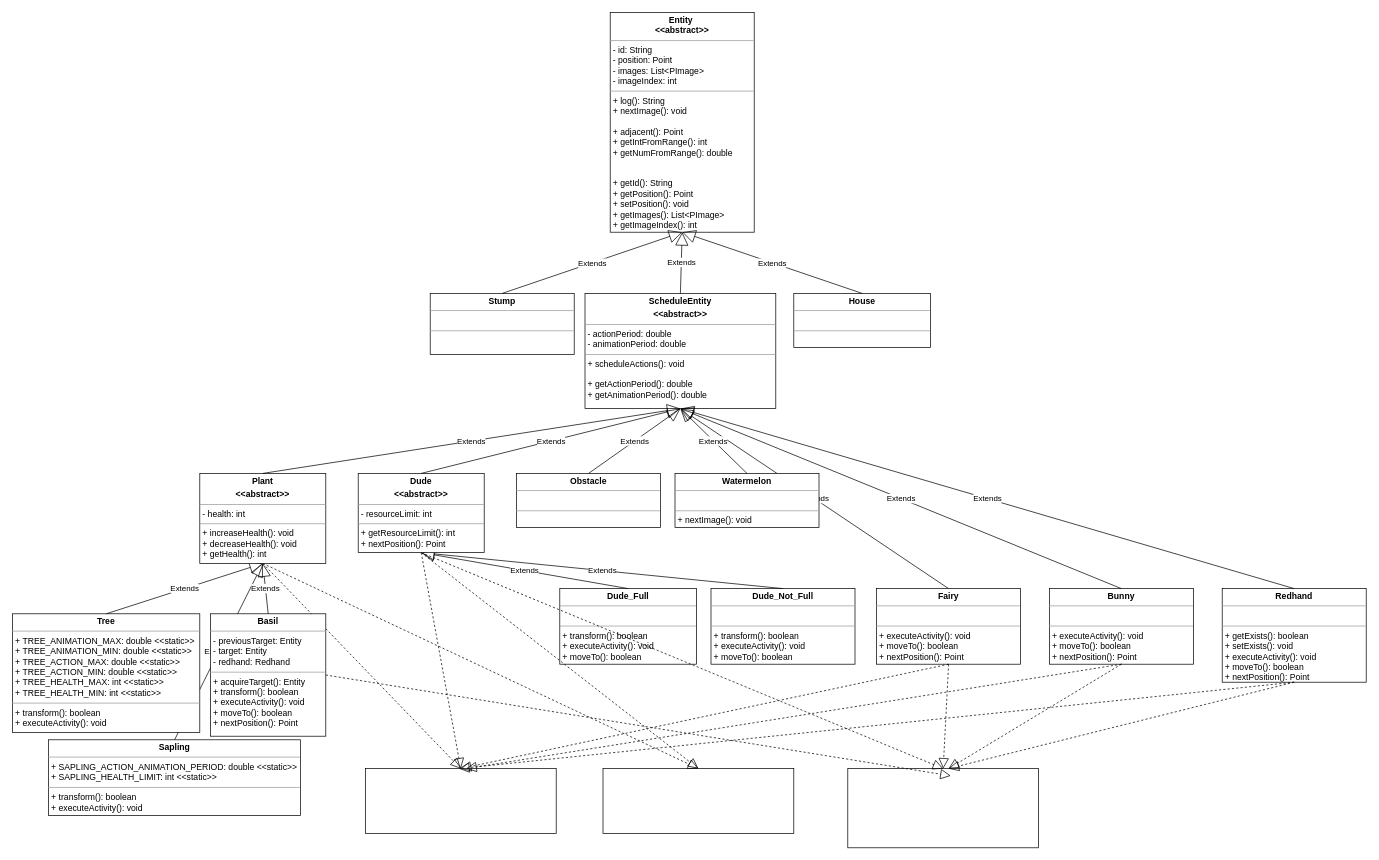
Image size: 1379x860. Some labels were removed from this diagram. The shapes that lost their labels are listed below. From the top down, each one's centre as x and y in pixels, then its label:
At (x=460, y=800): "ExecuteEntity <<interface>> + executeActivity(): void".
At (x=698, y=800): "TransformEntity <<interface>> + transform(): boolean".
At (x=943, y=808): "MoveEntity <<interface>> + moveTo(): boolean + nextPosition(): Point".
